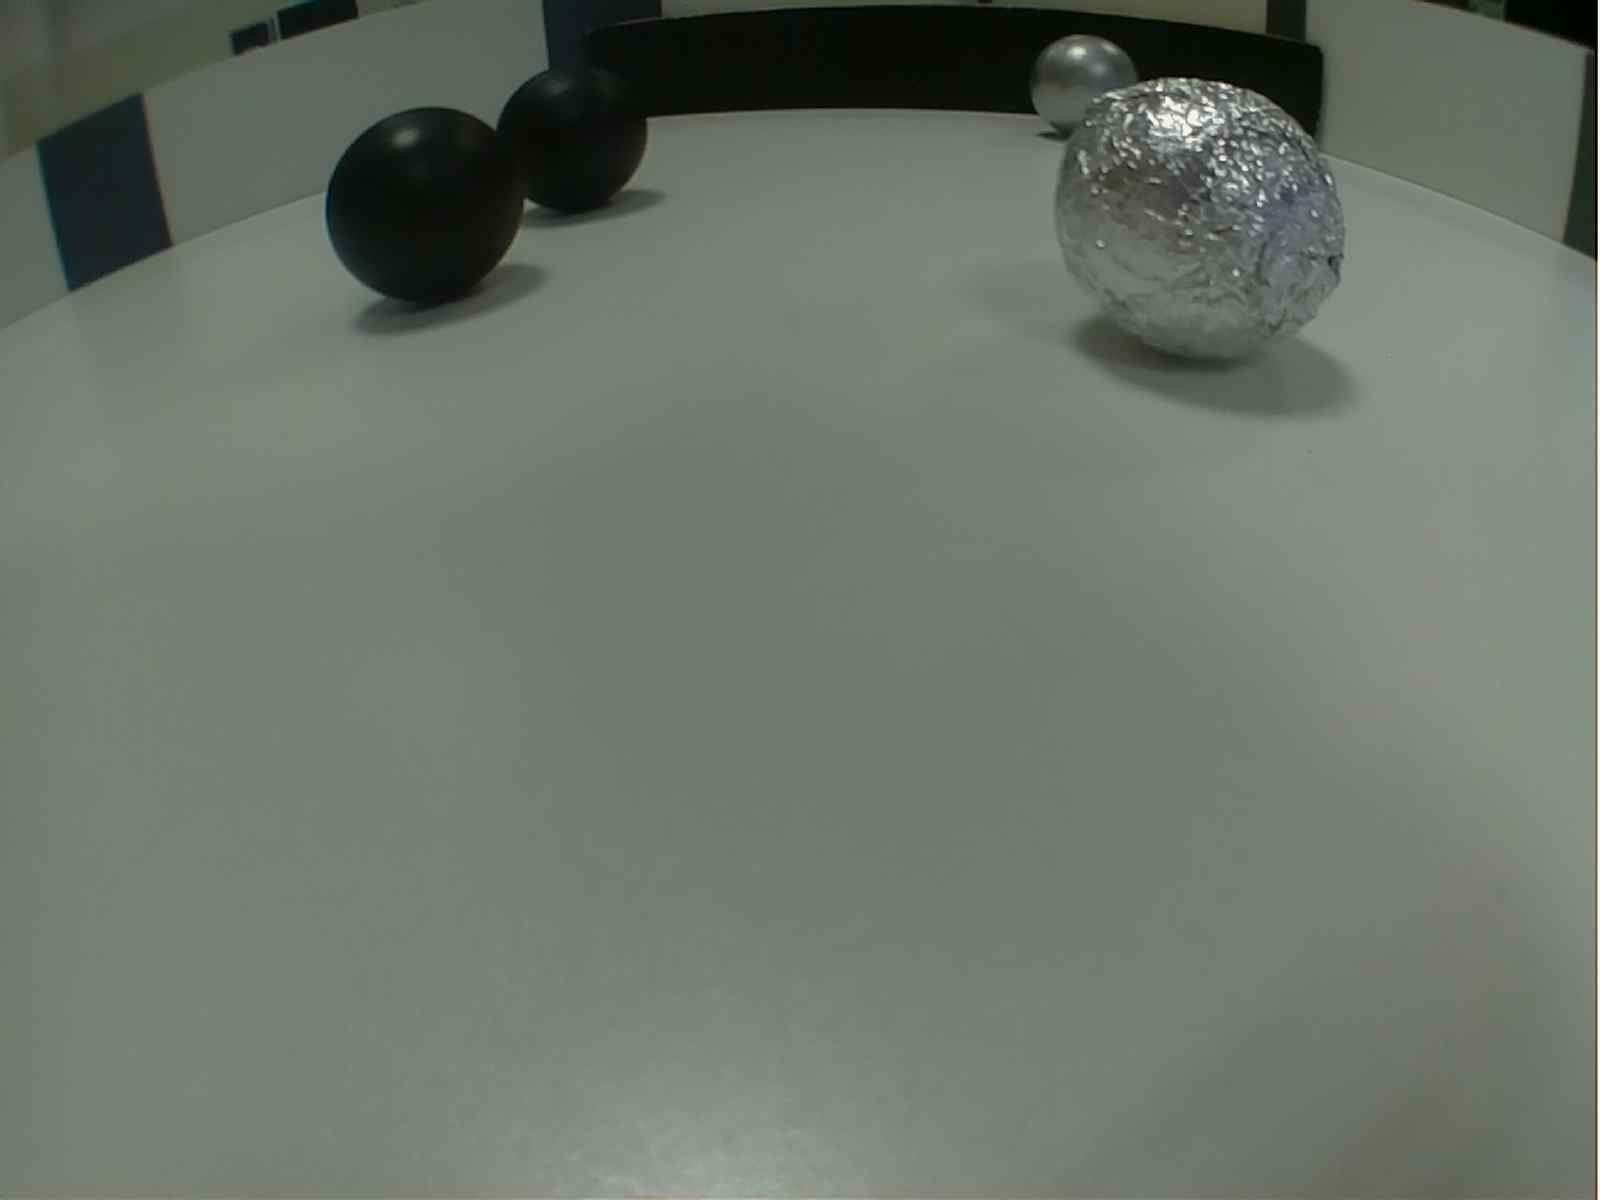bianca: (1049, 78, 1352, 379), (1034, 37, 1135, 137)
nera: (323, 106, 523, 308), (493, 66, 653, 224)
